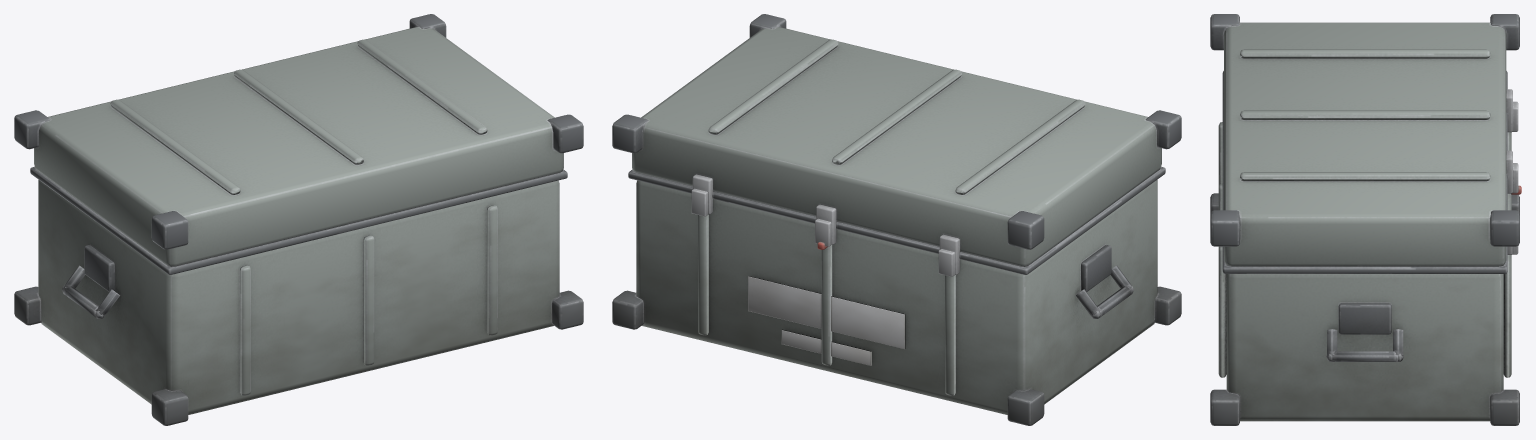
Rendered from expedition_trunk.glb.
3 views of the same model, side by side, from view 1: azimuth 30°, elevation 25°; view 2: azimuth 150°, elevation 25°; view 3: azimuth 270°, elevation 25° (orthographic).
Parts seen in each view (by area): view 1: expedition_trunk; view 2: expedition_trunk; view 3: expedition_trunk.
Boxes of the visible parts, box(x1,y1,x2,y2) form: expedition_trunk: box(14, 14, 583, 425); expedition_trunk: box(612, 14, 1181, 425); expedition_trunk: box(1210, 14, 1521, 425).
Size of the model in its own units: 0.7824 by 0.361 by 0.4715.
Materials: 1 (1 with a texture image).
